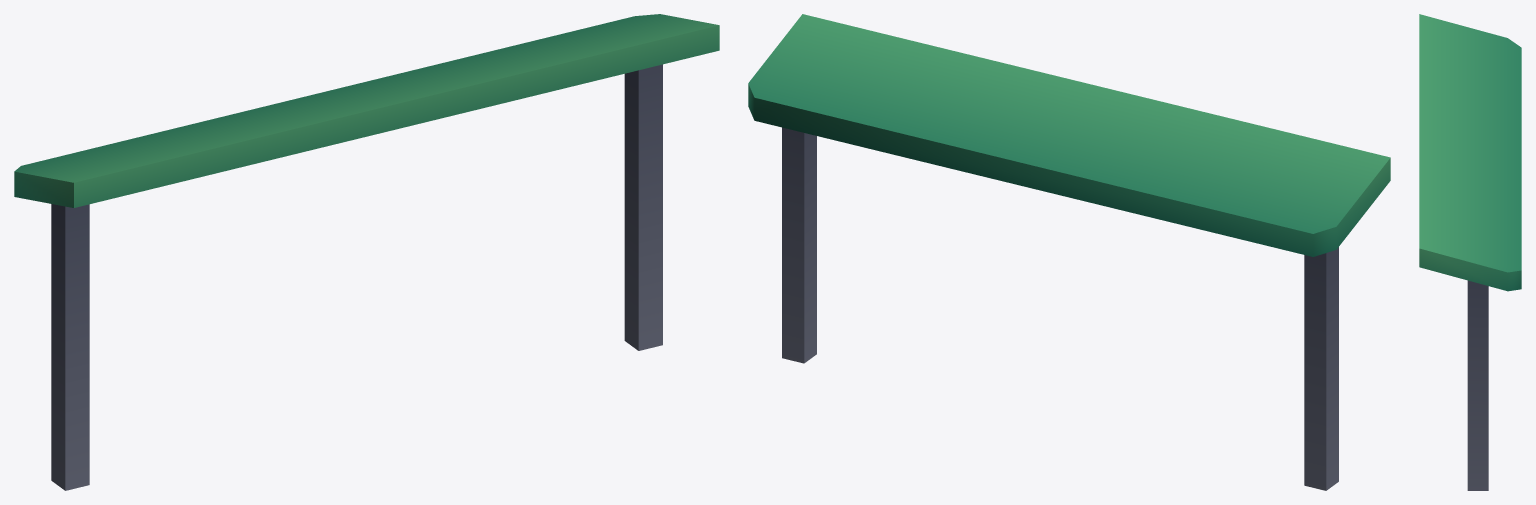
The model's file is detail-awning-wide.glb.
3 views of the same model, side by side, from view 1: azimuth 30°, elevation 25°; view 2: azimuth 150°, elevation 25°; view 3: azimuth 270°, elevation 25° (orthographic). The views are drawn at different scales.
Parts seen in each view (by area): view 1: detail-awning-wide; view 2: detail-awning-wide; view 3: detail-awning-wide.
Part boxes in pixels (bbox=[...]): detail-awning-wide: bbox=[14, 14, 719, 490]; detail-awning-wide: bbox=[748, 14, 1390, 490]; detail-awning-wide: bbox=[1419, 14, 1521, 490].
Bounding box in the file's own units: 0.8 × 0.4 × 0.1479.
